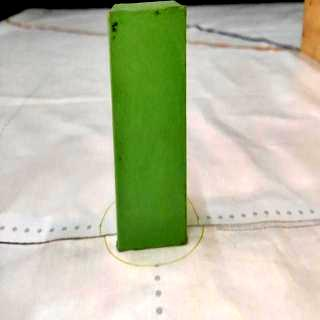greenbox: (107, 0, 188, 252)
